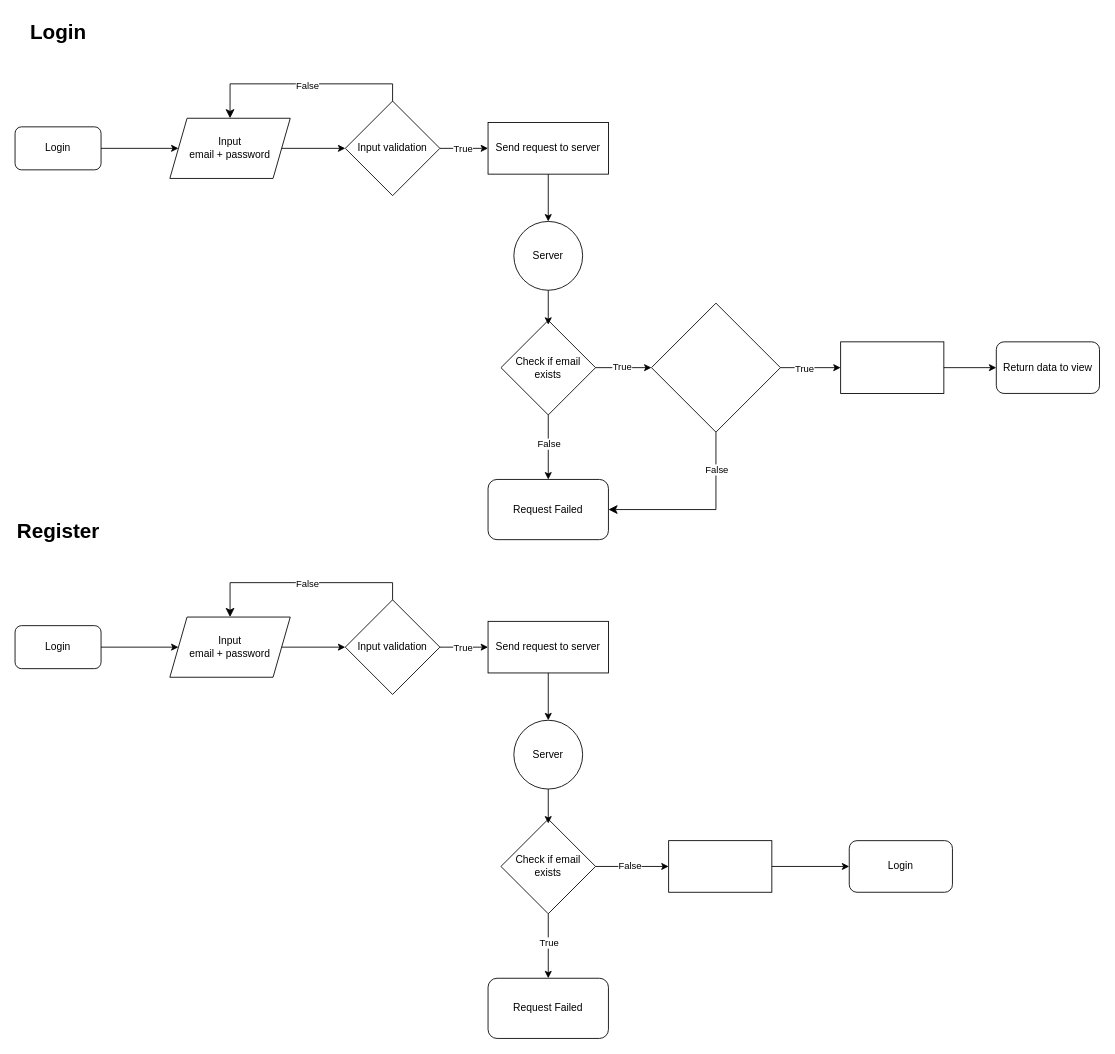
Some shapes in this 1115 by 1054 pixel diagram are drawn without their labels. The shapes that lost their labels are listed below. From the top down, each one's box as (x1, y1, x2, y2) in pixels, then its label:
(651, 302, 780, 432): Check if password is correct
(840, 341, 944, 393): Collect user data
(668, 840, 772, 892): Insert Data
